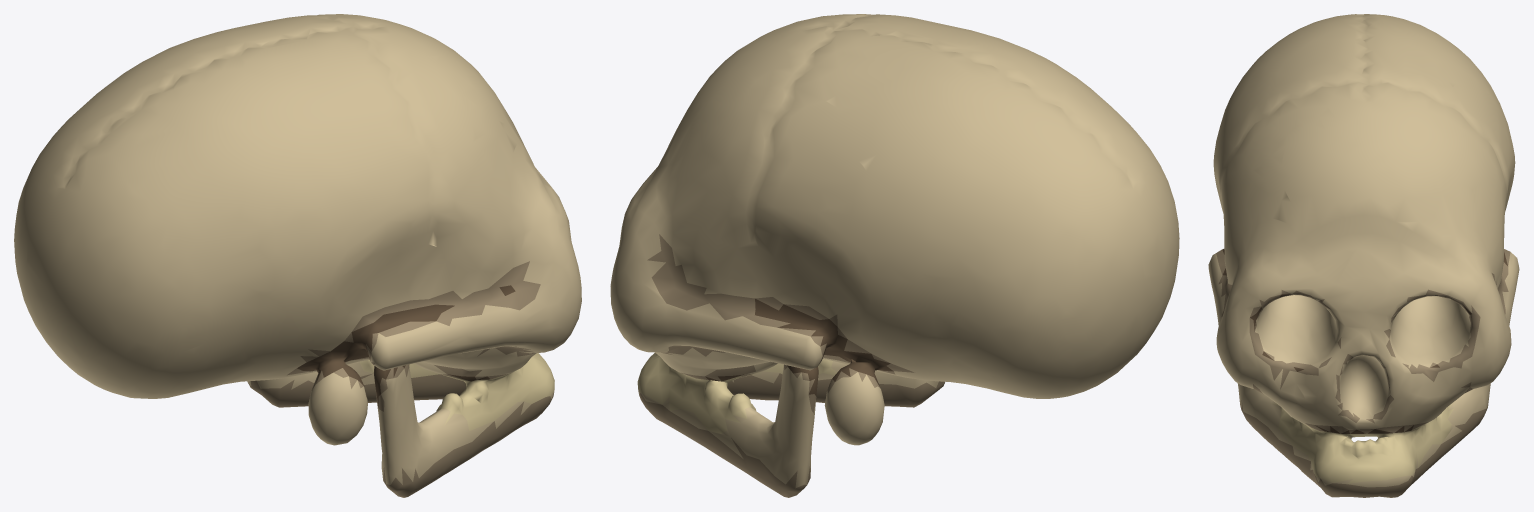
The model's file is skull.glb.
The picture shows the model from 3 angles, left to right: view 1: azimuth 30°, elevation 25°; view 2: azimuth 150°, elevation 25°; view 3: azimuth 270°, elevation 25°; orthographic projection. The views are drawn at different scales.
Parts seen in each view (by area): view 1: schaedel; view 2: schaedel; view 3: schaedel.
Boxes of the visible parts, <box> form: schaedel: <box>14,14,581,497</box>; schaedel: <box>610,14,1179,497</box>; schaedel: <box>1208,14,1519,497</box>.
Bounding box in the file's own units: 0.2261 × 0.183 × 0.144.
